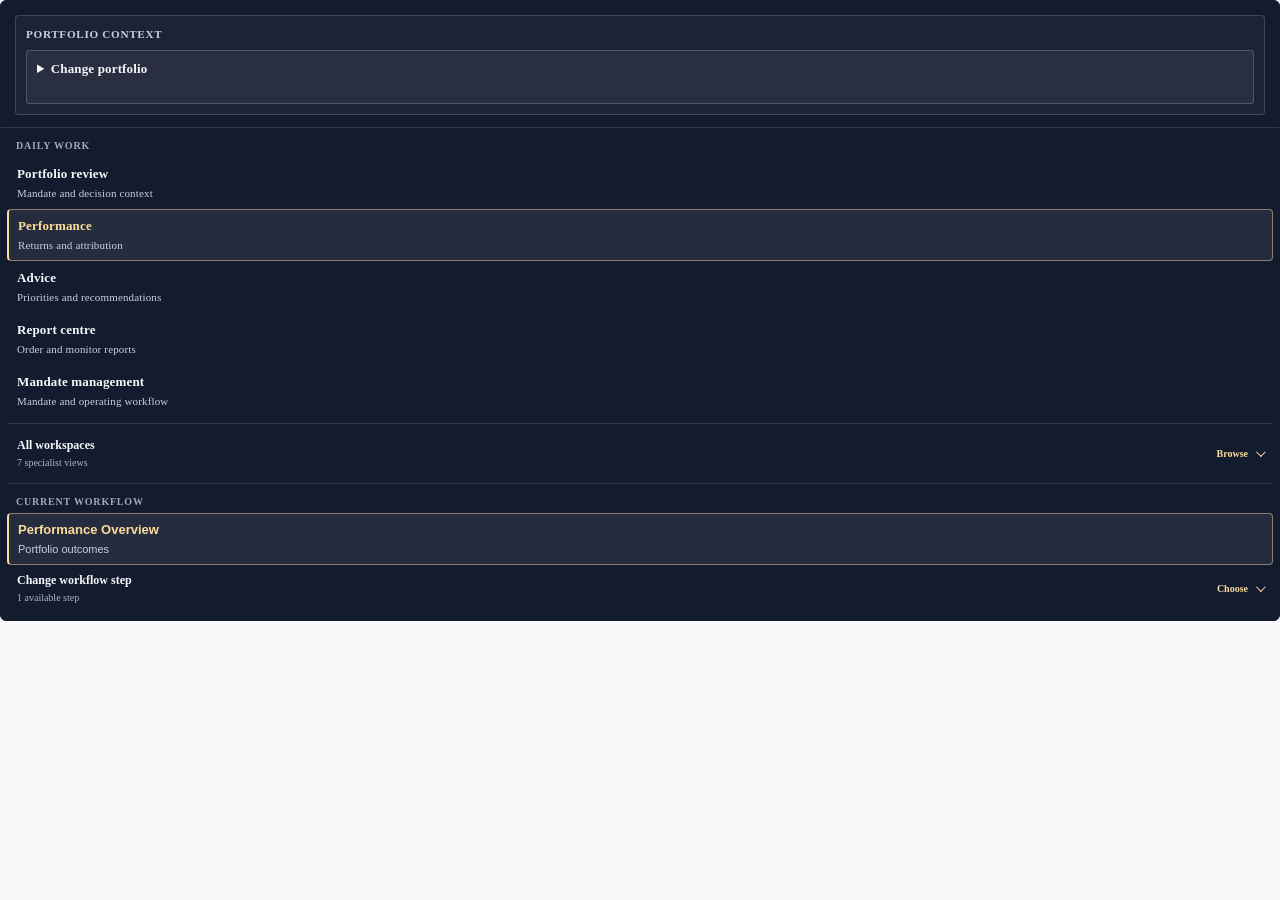
Test: PortfolioScreenRail › returns focus to the visible workflow control after a desktop mode decision
Step 1. Click the button "Change workflow step 1 available step Choose" → x=74, y=580, box [7,565,1273,612]
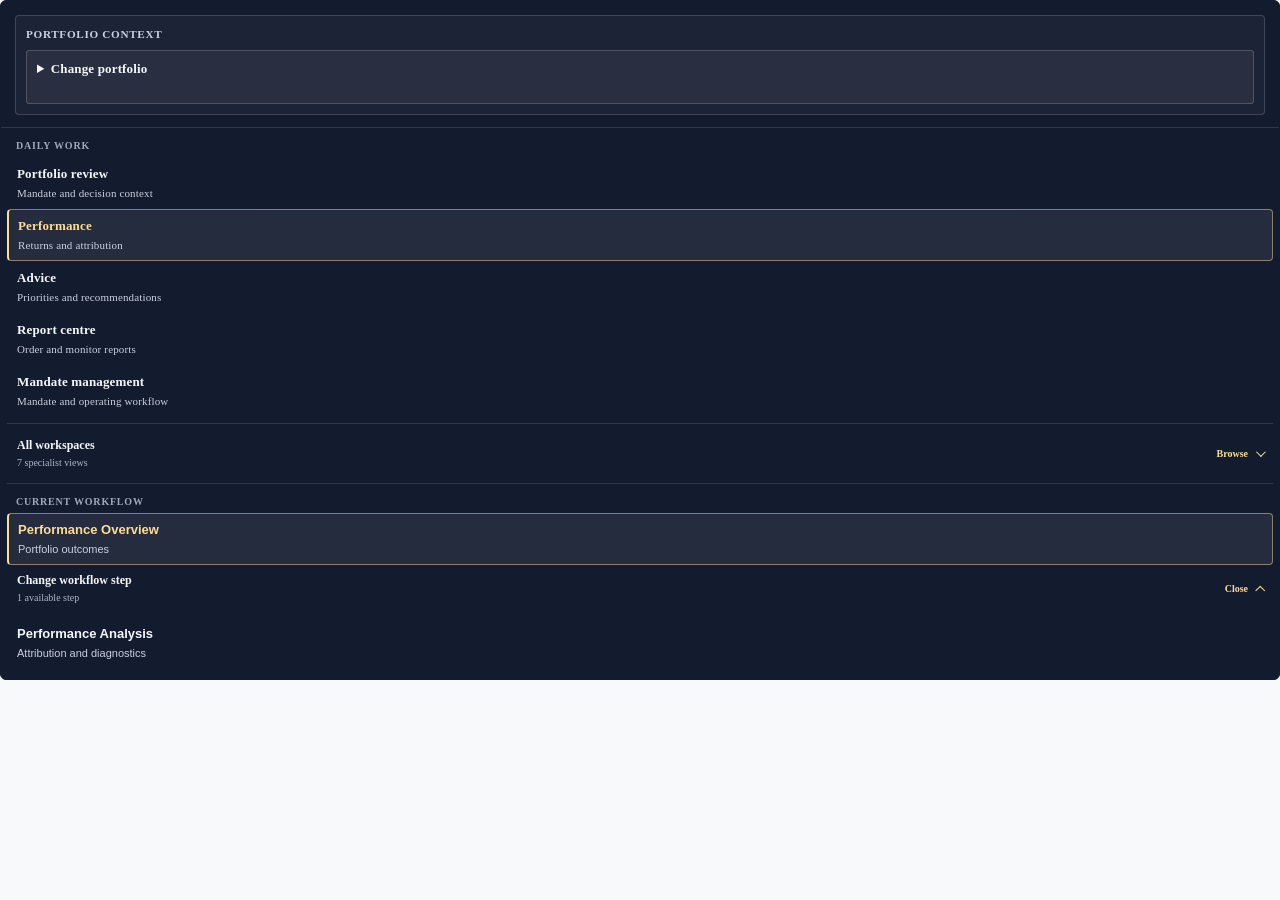
Step 2. Click the button "Performance Analysis" → x=85, y=633, box [7,617,1273,669]
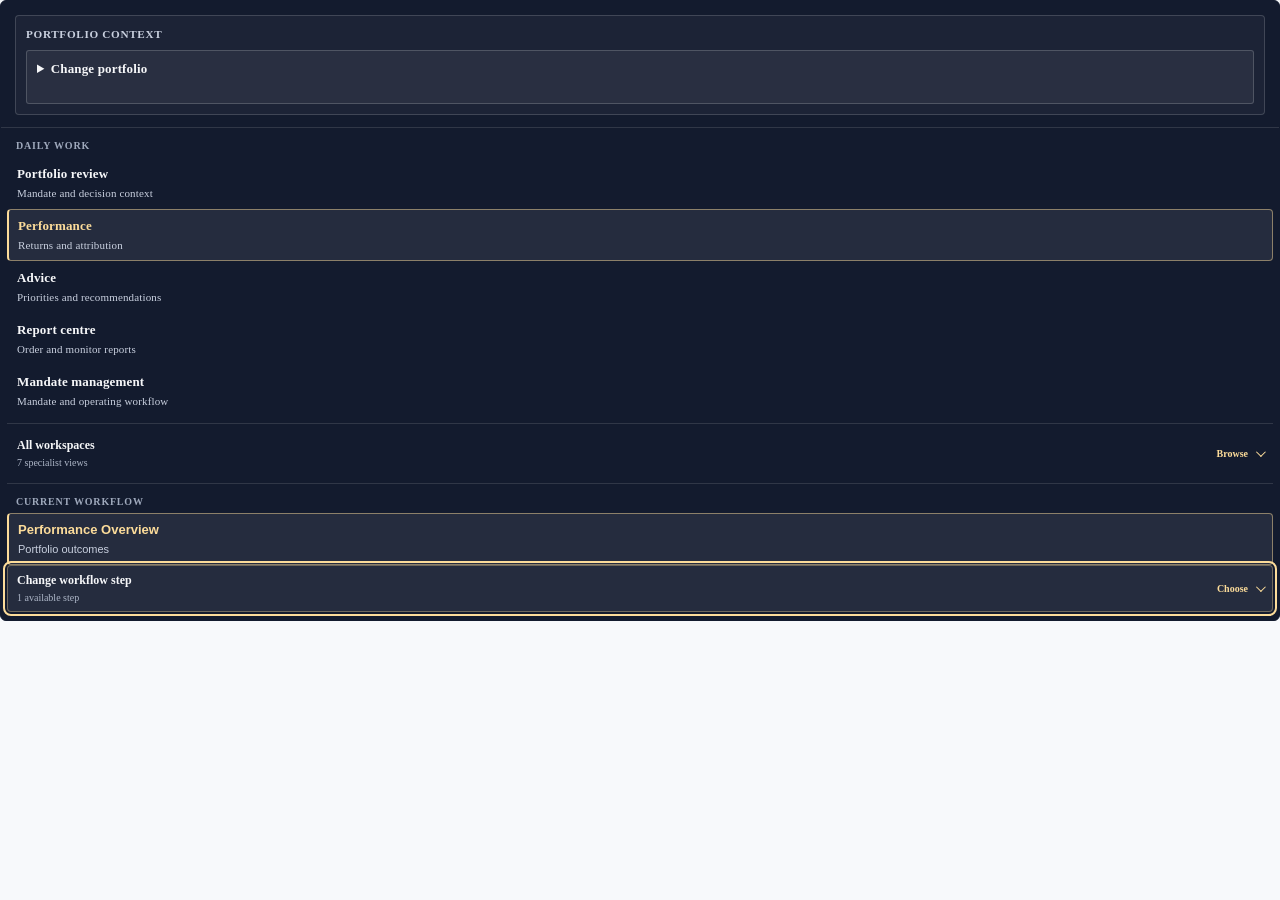
expect the button "Change workflow step 1 available step Choose" is collapsed: met, box [7,565,1273,612]
